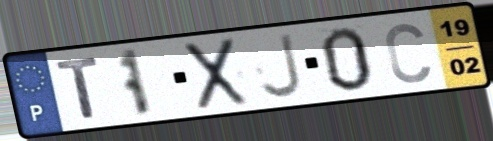0: (317, 25, 376, 93)
1: (114, 45, 156, 120)
C: (382, 20, 434, 86)
J: (258, 31, 306, 101)
T: (53, 54, 103, 121)
X: (182, 35, 251, 113)
